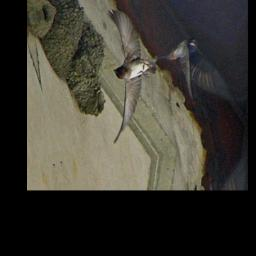Swallow: (85, 0, 175, 147)
